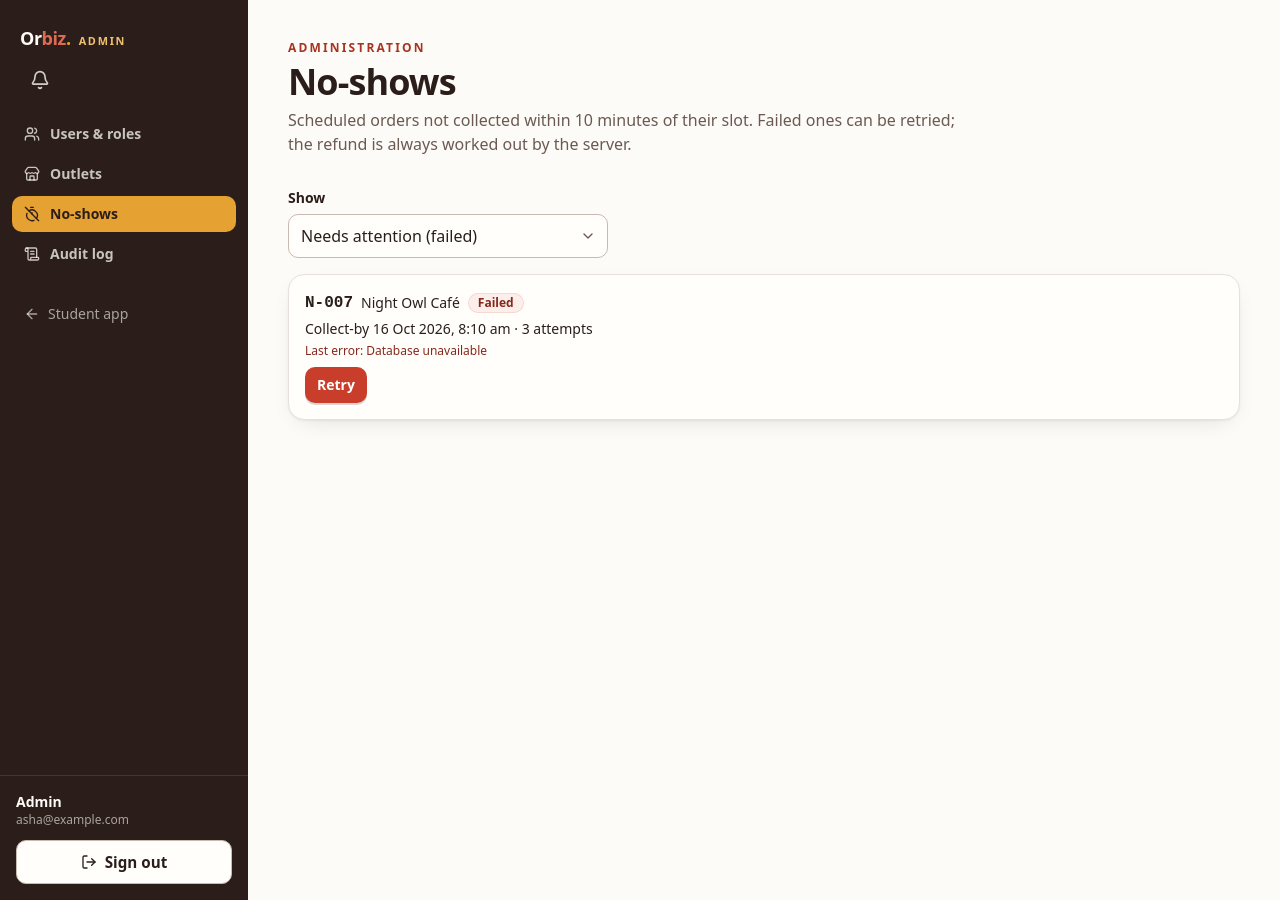
audit log › admin no-shows › lists failed settlements and retries without sending any amount
Expected: the text "N-007" is shown, x1=305 y1=291 x2=353 y2=315
Expected: the text "Last error: Database unavailable" is shown, x1=305 y1=342 x2=487 y2=359
Click the button "Retry".
click(336, 385)  # box x1=305 y1=367 x2=367 y2=403
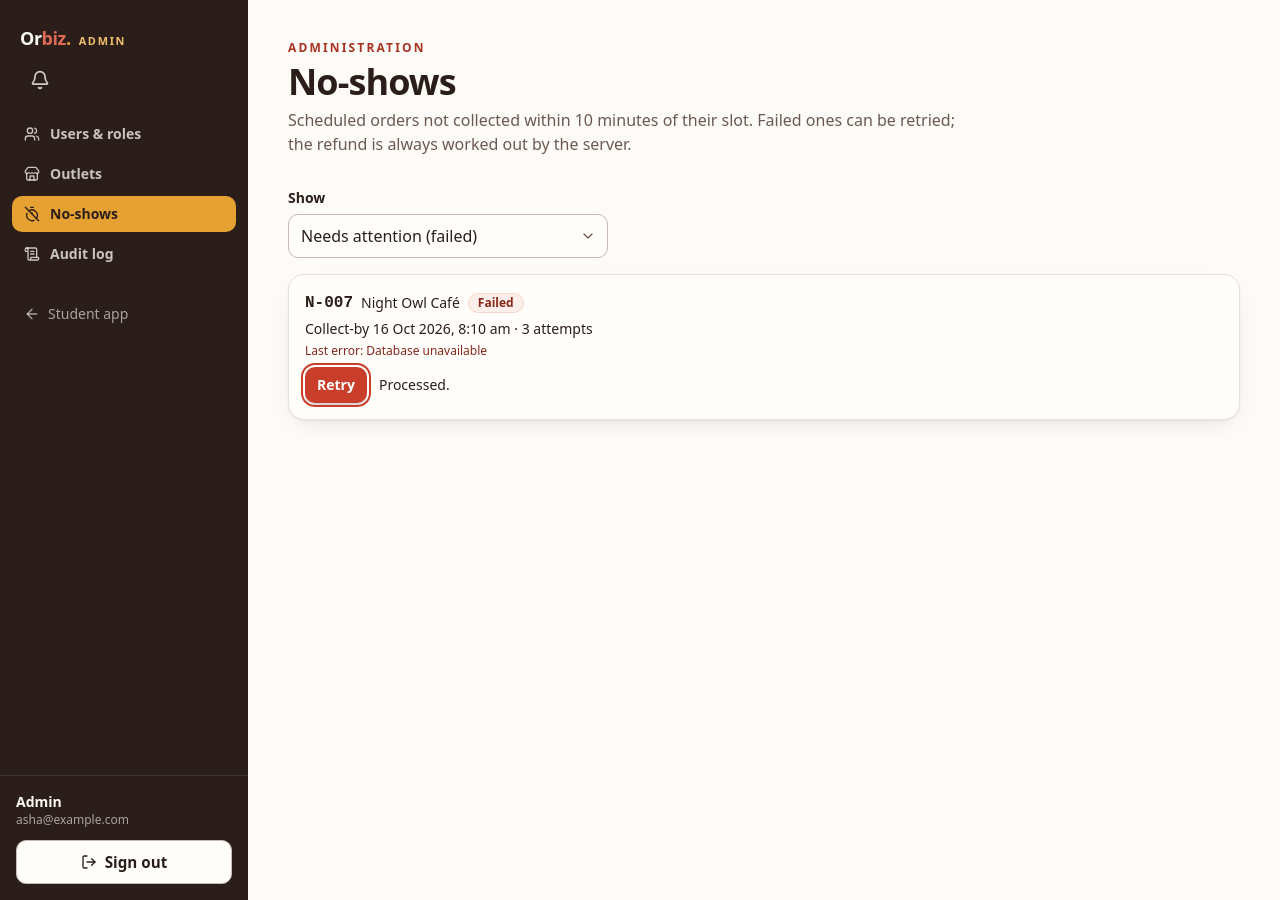
Now the message reads "Processed.", box x1=379 y1=375 x2=450 y2=394
